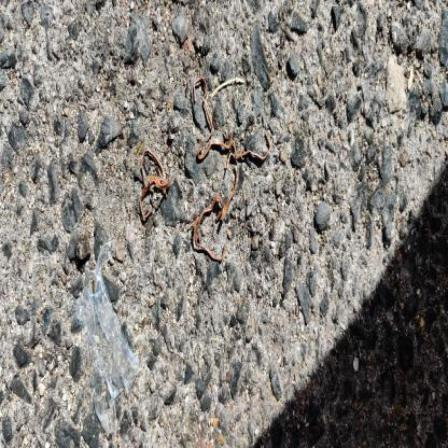Other litter: (189, 194, 227, 261), (142, 150, 173, 220), (195, 78, 215, 142), (222, 153, 240, 223), (234, 133, 272, 161), (198, 134, 234, 162)
Plastic bag - wrapper: (78, 241, 140, 434)
